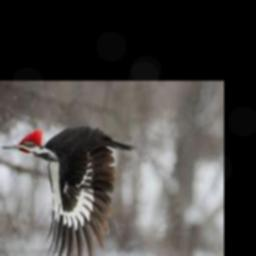Woodpecker: (1, 127, 136, 256)
